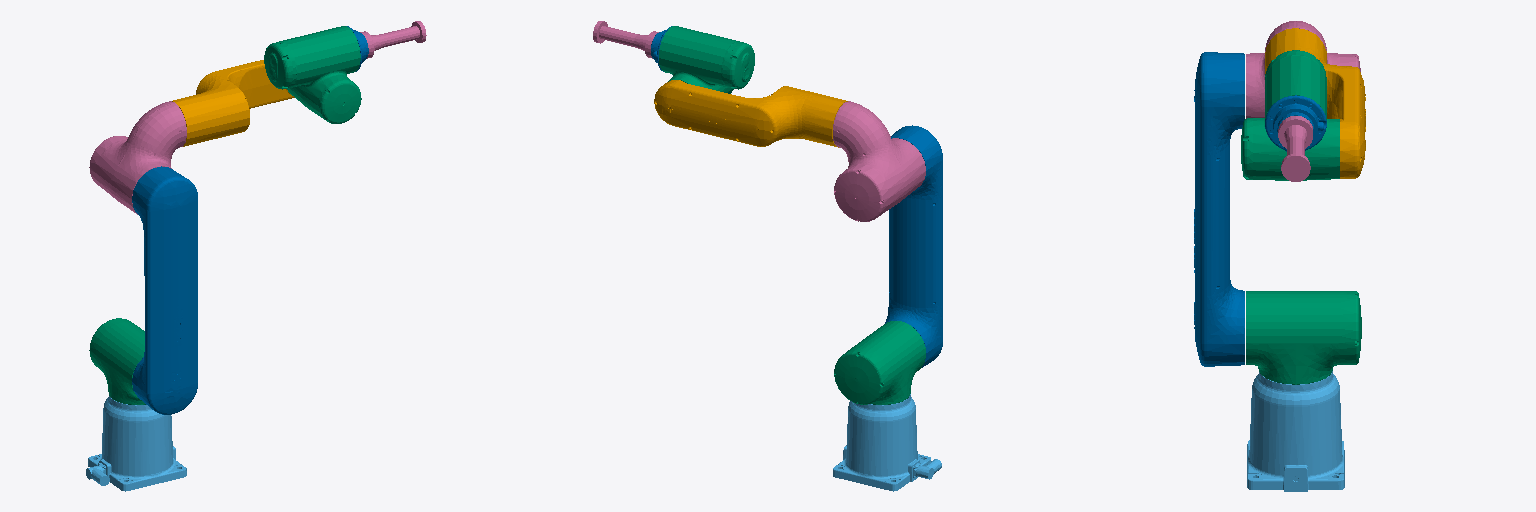
robot.urdf — gofa_arm_urdf:
<?xml version="1.0"?>

<robot name="gofa_arm_urdf">


    <!-- World Definition -->
    <link name="world"/>


    <!-- Links Definition -->
    <!-- BASE LINK -->
    <link name="base_link">
        <visual>
            <geometry>
                <mesh filename="package://pastabot_pkg/mesh/GoFa_Base.stl" scale="0.001 0.001 0.001"/>
            </geometry>
            <origin xyz="0.0 0.0 0.0" rpy="0.0 0.0 0.0"/>
        </visual>
        <collision>
            <geometry>
                <mesh filename="package://pastabot_pkg/mesh/GoFa_Base.stl" scale="0.001 0.001 0.001"/>
            </geometry>
        </collision>
        <inertial>
            <mass value="10"/>
            <inertia ixx="0.4" ixy="0.0" ixz="0.0" iyy="0.4" iyz="0.0" izz="0.2"/>
            <origin xyz="0 0 0" rpy="0 0 0"/>
        </inertial>
    </link>
    <gazebo reference="base_link">
        <material>Gazebo/Yellow</material>
        <plugin name="gazebo_ros_control" filename="libgazebo_ros_control.so">
            <robotNamespace>/</robotNamespace>
        </plugin>
    </gazebo>

    <!-- LINK01 Revolutional - Visualization and Physics -->
    <link name="link01_rev1">
        <visual>
            <geometry>
                <mesh filename="package://pastabot_pkg/mesh/GoFa_Link1.stl" scale="0.001 0.001 0.001"/>
            </geometry>
            <origin xyz="0.0 0.0 0.0" rpy="0.0 0.0 0.0"/>
        </visual>
        <collision>
            <geometry>
                <mesh filename="package://pastabot_pkg/mesh/GoFa_Link1.stl" scale="0.001 0.001 0.001"/>
            </geometry>
            <origin xyz="0.0 0.0 0.0" rpy="0.0 0.0 0.0"/>
        </collision>
        <inertial>
            <mass value="0.1"/>
            <origin xyz="0 0 0" rpy="0 0 0"/>
            <inertia ixx="0.03" iyy="0.03" izz="0.03" ixy="0.0" ixz="0.0" iyz="0.0"/>
        </inertial>
    </link>
    <gazebo reference="link01_rev1">
        <material>Gazebo/Yellow</material>
    </gazebo>

    <!-- LINK01 DH - Modeling Cinematic Transformations -->
    <link name="link01_DH">
        <inertial>
            <mass value="1"/>
            <inertia ixx="0.4" ixy="0.0" ixz="0.0" iyy="0.4" iyz="0.0" izz="0.2"/>
        </inertial>
    </link>

    <!-- LINK02 Revolutional - Visualization and Physics -->
    <link name="link02_rev2">
        <visual>
            <geometry>
                <mesh filename="package://pastabot_pkg/mesh/GoFa_Link2.stl" scale="0.001 0.001 0.001"/>
            </geometry>
            <origin xyz="0.0 0.265 0.0" rpy="1.570795 0.0 0.0"/>
        </visual>
        <collision>
            <geometry>
                <mesh filename="package://pastabot_pkg/mesh/GoFa_Link2.stl" scale="0.001 0.001 0.001"/>
            </geometry>
            <origin xyz="0.0 0.265 0.0" rpy="1.570795 0.0 0.0"/>
        </collision>
        <inertial>
            <mass value="0.1"/>
            <origin xyz="0 0 0" rpy="0 0 0"/>
            <inertia ixx="0.03" iyy="0.03" izz="0.03" ixy="0.0" ixz="0.0" iyz="0.0"/>
        </inertial>
    </link>
    <gazebo reference="link02_rev2">
        <material>Gazebo/Yellow</material>
    </gazebo>

    <!-- LINK02 DH - Modeling Cinematic Transformations -->
    <link name="link02_DH">
        <inertial>
            <mass value="1"/>
            <inertia ixx="0.4" ixy="0.0" ixz="0.0" iyy="0.4" iyz="0.0" izz="0.2"/>
        </inertial>
    </link>

    <!-- LINK03 Revolutional - Visualization and Physics -->
    <link name="link03_rev3">
        <visual>
            <geometry>
                <mesh filename="package://pastabot_pkg/mesh/GoFa_Link3.stl" scale="0.001 0.001 0.001"/>
            </geometry>
            <origin xyz="-0.709 0.0 0.0 " rpy="1.570795 0.0 1.570795"/>
        </visual>
        <collision>
            <geometry>
                <mesh filename="package://pastabot_pkg/mesh/GoFa_Link3.stl" scale="0.001 0.001 0.001"/>
            </geometry>
            <origin xyz="-0.709 0.0 0.0 " rpy="1.570795 0.0 1.570795"/>
        </collision>
        <inertial>
            <mass value="0.1"/>
            <origin xyz="0 0 0" rpy="0 0 0"/>
            <inertia ixx="0.03" iyy="0.03" izz="0.03" ixy="0.0" ixz="0.0" iyz="0.0"/>
        </inertial>
    </link>
    <gazebo reference="link03_rev3">
        <material>Gazebo/Yellow</material>
    </gazebo>

    <!-- LINK03 DH - Modeling Cinematic Transformations -->
    <link name="link03_DH">
        <inertial>
            <mass value="1"/>
            <inertia ixx="0.4" ixy="0.0" ixz="0.0" iyy="0.4" iyz="0.0" izz="0.2"/>
        </inertial>
    </link>

    <!-- LINK04 Revolutional - Visualization and Physics -->
    <link name="link04_rev4">
        <visual>
            <geometry>
                <mesh filename="package://pastabot_pkg/mesh/GoFa_Link4.stl" scale="0.001 0.001 0.001"/>
            </geometry>
            <origin xyz="-0.819 0.0 0.0" rpy="3.14159 -1.570795 0.0"/>
        </visual>
        <collision>
            <geometry>
                <mesh filename="package://pastabot_pkg/mesh/GoFa_Link4.stl" scale="0.001 0.001 0.001"/>
            </geometry>
            <origin xyz="-0.819 0.0 0.0" rpy="3.14159 -1.570795 0.0"/>
        </collision>
        <inertial>
            <mass value="0.1"/>
            <origin xyz="0 0 0" rpy="0 0 0"/>
            <inertia ixx="0.03" iyy="0.03" izz="0.03" ixy="0.0" ixz="0.0" iyz="0.0"/>
        </inertial>
    </link>
    <gazebo reference="link04_rev4">
        <material>Gazebo/Yellow</material>
    </gazebo>

    <!-- LINK04 DH - Modeling Cinematic Transformations -->
    <link name="link04_DH">
        <inertial>
            <mass value="1"/>
            <inertia ixx="0.4" ixy="0.0" ixz="0.0" iyy="0.4" iyz="0.0" izz="0.2"/>
        </inertial>
    </link>

    <!-- LINK05 Revolutional - Visualization and Physics -->
    <link name="link05_rev5">
        <visual>
            <geometry>
                <mesh filename="package://pastabot_pkg/mesh/GoFa_Link5.stl" scale="0.001 0.001 0.001"/>
            </geometry>
            <origin xyz="-0.819 -0.47 0.0" rpy="1.570795 0.0 1.570795"/>
        </visual>
        <collision>
            <geometry>
                <mesh filename="package://pastabot_pkg/mesh/GoFa_Link5.stl" scale="0.001 0.001 0.001"/>
            </geometry>
            <origin xyz="-0.819 -0.47 0.0" rpy="1.570795 0.0 1.570795"/>
        </collision>
        <inertial>
            <mass value="0.1"/>
            <origin xyz="0 0 0" rpy="0 0 0"/>
            <inertia ixx="0.03" iyy="0.03" izz="0.03" ixy="0.0" ixz="0.0" iyz="0.0"/>
        </inertial>
    </link>
    <gazebo reference="link05_rev5">
        <material>Gazebo/Yellow</material>
    </gazebo>

    <!-- LINK05 DH - Modeling Cinematic Transformations -->
    <link name="link05_DH">
        <inertial>
            <mass value="1"/>
            <inertia ixx="0.4" ixy="0.0" ixz="0.0" iyy="0.4" iyz="0.0" izz="0.2"/>
        </inertial>
    </link>

    <!-- LINK06 Revolutional - Visualization and Physics -->
    <link name="link06_rev6">
        <visual>
            <geometry>
                <mesh filename="package://pastabot_pkg/mesh/GoFa_Link6.stl" scale="0.001 0.001 0.001"/>
            </geometry>
            <origin xyz="-0.899 0.0 -0.47" rpy="0.0 -1.570795 3.14159"/>
        </visual>
        <collision>
            <geometry>
                <mesh filename="package://pastabot_pkg/mesh/GoFa_Link6.stl" scale="0.001 0.001 0.001"/>
            </geometry>
            <origin xyz="-0.899 0.0 -0.47" rpy="0.0 -1.570795 3.14159"/>
            <material name="green"/>
        </collision>
        <inertial>
            <mass value="0.1"/>
            <origin xyz="0 0 0" rpy="0 0 0"/>
            <inertia ixx="0.03" iyy="0.03" izz="0.03" ixy="0.0" ixz="0.0" iyz="0.0"/>
        </inertial>
        <gazebo>
            <sensor type="force_torque" name="ft_sensor">
                <always_on>true</always_on>
                <update_rate>100.0</update_rate>
                <force_torque>
                    <frame>child</frame>
                    <measure_direction>child_to_parent</measure_direction>
                </force_torque>
            </sensor>
        </gazebo>
    </link>
    <gazebo reference="link06_rev6">
        <material>Gazebo/Yellow</material>
    </gazebo>

    <!-- LINK06 DH - Modeling Cinematic Transformations -->
    <link name="link06_DH">
        <inertial>
            <mass value="1"/>
            <inertia ixx="0.4" ixy="0.0" ixz="0.0" iyy="0.4" iyz="0.0" izz="0.2"/>
        </inertial>
    </link>

    <!-- GRIPPER LINK -->
    <link name="gripper_fixed">
        <visual>
            <geometry>
                <mesh filename="package://pastabot_pkg/mesh/SR24_02_ExeAHTool.stl" scale="0.001 0.001 0.001"/>
            </geometry>
            <origin xyz="0 0.0 -0.150" rpy="0.0 0 0"/>
        </visual>
        <collision>
            <geometry>
                <mesh filename="package://pastabot_pkg/mesh/SR24_02_ExeAHTool.stl" scale="0.001 0.001 0.001"/>
            </geometry>
            <origin xyz="0 0.0 -0.150" rpy="0.0 0 0"/>
        </collision>
        <inertial>
            <mass value="1"/>
            <inertia ixx="0.4" ixy="0.0" ixz="0.0" iyy="0.4" iyz="0.0" izz="0.2"/>
            <origin xyz="0 0 0" rpy="0 0 0"/>
        </inertial>
    </link>
    <gazebo reference="gripper_fixed">
        <material>Gazebo/Yellow</material>
    </gazebo>


    <!-- Joints Definition -->
    <!-- BASE JOINT (fixed) -->
    <joint name="fixed" type="fixed">
        <parent link="world"/>
        <child link="base_link"/>
    </joint>

    <!-- JOINT1 Revolutional -->
    <joint name="jnt1_rev" type="revolute">
        <parent link="base_link"/>
        <child link="link01_rev1"/>
        <axis xyz="0 0 1"/>
        <limit lower="-3.14159" upper="3.14159" velocity="50.0" effort="1000.0"/>
        <origin xyz="0 0 0" rpy="0 0 0"/>
        <dynamics damping="0.5" friction="0.5"/>
    </joint>

    <!-- JOINT1 DH -->
    <joint name="jnt1_DH" type="fixed">
        <parent link="link01_rev1"/>
        <child link="link01_DH"/>
        <origin xyz="0 0 0.265" rpy="-1.570795 0 0"/>
    </joint>

    <!-- JOINT2 Revolutional -->
    <joint name="jnt2_rev" type="revolute">
        <parent link="link01_DH"/>
        <child link="link02_rev2"/>
        <axis xyz="0 0 1"/>
        <limit lower="-1.5708" upper="1.5708" velocity="50.0" effort="1000.0"/>
        <origin xyz="0 0 0" rpy="0 0 0"/>
        <dynamics damping="0.5" friction="0.5"/>
    </joint>

    <!-- JOINT2 DH -->
    <joint name="jnt2_DH" type="fixed">
        <parent link="link02_rev2"/>
        <child link="link02_DH"/>
        <limit lower="-1.5708" upper="1.5708" velocity="50.0" effort="1000.0"/>
        <origin xyz="0 -0.444 0" rpy="0 0 -1.570795"/>
    </joint>

    <!-- JOINT3 Revolutional -->
    <joint name="jnt3_rev" type="revolute">
        <parent link="link02_DH"/>
        <child link="link03_rev3"/>
        <axis xyz="0 0 1"/>
        <limit lower="-1.5708" upper="1.5708" velocity="50.0" effort="1000.0"/>
        <origin xyz="0 0 0" rpy="0 0 0"/>
        <dynamics damping="0.5" friction="0.5"/>
    </joint>

    <!-- JOINT3 DH -->
    <joint name="jnt3_DH" type="fixed">
        <parent link="link03_rev3"/>
        <child link="link03_DH"/>
        <limit lower="-1.5708" upper="1.5708" velocity="50.0" effort="1000.0"/>
        <origin xyz="0.11 0 0" rpy="-1.570795 0 0"/>
    </joint>

    <!-- JOINT4 Revolutional -->
    <joint name="jnt4_rev" type="revolute">
        <parent link="link03_DH"/>
        <child link="link04_rev4"/>
        <axis xyz="0 0 1"/>
        <limit lower="-3.14159" upper="3.14159" velocity="50.0" effort="1000.0"/>
        <origin xyz="0 0 0" rpy="0 0 0"/>
        <dynamics damping="0.5" friction="0.5"/>
    </joint>

    <!-- JOINT4 DH -->
    <joint name="jnt4_DH" type="fixed">
        <parent link="link04_rev4"/>
        <child link="link04_DH"/>
        <limit lower="-3.14159" upper="3.14159" velocity="50.0" effort="1000.0"/>
        <origin xyz="0 0 0.47" rpy="1.570795 0 0"/>
    </joint>

    <!-- JOINT5 Revolutional -->
    <joint name="jnt5_rev" type="revolute">
        <parent link="link04_DH"/>
        <child link="link05_rev5"/>
        <axis xyz="0 0 1"/>
        <limit lower="-3.14159" upper="3.14159" velocity="50.0" effort="1000.0"/>
        <origin xyz="0 0 0" rpy="0 0 0"/>
        <dynamics damping="0.5" friction="0.5"/>
    </joint>

    <!-- JOINT5 DH -->
    <joint name="jnt5_DH" type="fixed">
        <parent link="link05_rev5"/>
        <child link="link05_DH"/>
        <limit lower="-3.14159" upper="3.14159" velocity="50.0" effort="1000.0"/>
        <origin xyz="0.08 0 0" rpy="-1.570795 0 0"/>
    </joint>

    <!-- JOINT6 Revolutional -->
    <joint name="jnt6_rev" type="revolute">
        <parent link="link05_DH"/>
        <child link="link06_rev6"/>
        <axis xyz="0 0 1"/>
        <limit lower="-3.14159" upper="3.14159" velocity="50.0" effort="1000.0"/>
        <origin xyz="0 0 0" rpy="0 0 0"/>
        <dynamics damping="0.5" friction="0.5"/>
    </joint>
    <gazebo reference="jnt6_rev">
        <provideFeedback>true</provideFeedback>  <!-- Enable Joint Feedback for End Effector Joint -->
    </gazebo>

    <!-- JOINT6 DH -->
    <joint name="jnt6_DH" type="fixed">
        <parent link="link06_rev6"/>
        <child link="link06_DH"/>
        <limit lower="-3.14159" upper="3.14159" velocity="50.0" effort="1000.0"/>
        <origin xyz="0 0 0.101" rpy="0 0 3.14159"/>
    </joint>

    <!-- JOINT GRIPPER DH -->
    <joint name="jnt_gripper" type="fixed">
        <parent link="link06_DH"/>
        <child link="gripper_fixed"/>
        <limit lower="-3.14159" upper="3.14159" velocity="50.0" effort="1000.0"/>
        <origin xyz="0 0 0.150" rpy="0 0 0"/>
    </joint>


    <!-- Transmissions Definition -->
    <!-- JOINT1 -->
    <transmission name="jnt1_rev_simple_trans">
        <type>transmission_interface/SimpleTransmission</type>
        <joint name="jnt1_rev">
            <hardwareInterface>hardware_interface/PositionJointInterface</hardwareInterface>
        </joint>
        <actuator name="jnt1_rev_motor">
            <mechanicalReduction>1</mechanicalReduction>
            <hardwareInterface>hardware_interface/PositionJointInterface</hardwareInterface>
        </actuator>
    </transmission>

    <!-- JOINT2 -->
    <transmission name="jnt2_rev_simple_trans">
        <type>transmission_interface/SimpleTransmission</type>
        <joint name="jnt2_rev">
            <hardwareInterface>hardware_interface/PositionJointInterface</hardwareInterface>
        </joint>
        <actuator name="jnt2_rev_motor">
            <mechanicalReduction>1</mechanicalReduction>
            <hardwareInterface>hardware_interface/PositionJointInterface</hardwareInterface>
        </actuator>
    </transmission>

    <!-- JOINT3 -->
    <transmission name="jnt3_rev_simple_trans">
        <type>transmission_interface/SimpleTransmission</type>
        <joint name="jnt3_rev">
            <hardwareInterface>hardware_interface/PositionJointInterface</hardwareInterface>
        </joint>
        <actuator name="jnt3_rev_motor">
            <mechanicalReduction>1</mechanicalReduction>
            <hardwareInterface>hardware_interface/PositionJointInterface</hardwareInterface>
        </actuator>
    </transmission>

    <!-- JOINT4 -->
    <transmission name="jnt4_rev_simple_trans">
        <type>transmission_interface/SimpleTransmission</type>
        <joint name="jnt4_rev">
            <hardwareInterface>hardware_interface/PositionJointInterface</hardwareInterface>
        </joint>
        <actuator name="jnt4_rev_motor">
            <mechanicalReduction>1</mechanicalReduction>
            <hardwareInterface>hardware_interface/PositionJointInterface</hardwareInterface>
        </actuator>
    </transmission>

    <!-- JOINT5 -->
    <transmission name="jnt5_rev_simple_trans">
        <type>transmission_interface/SimpleTransmission</type>
        <joint name="jnt5_rev">
            <hardwareInterface>hardware_interface/PositionJointInterface</hardwareInterface>
        </joint>
        <actuator name="jnt5_rev_motor">
            <mechanicalReduction>1</mechanicalReduction>
            <hardwareInterface>hardware_interface/PositionJointInterface</hardwareInterface>
        </actuator>
    </transmission>

    <!-- JOINT6 -->
    <transmission name="jnt6_rev_simple_trans">
        <type>transmission_interface/SimpleTransmission</type>
        <joint name="jnt6_rev">
            <hardwareInterface>hardware_interface/PositionJointInterface</hardwareInterface>
        </joint>
        <actuator name="jnt6_rev_motor">
            <mechanicalReduction>1</mechanicalReduction>
            <hardwareInterface>hardware_interface/PositionJointInterface</hardwareInterface>
        </actuator>
    </transmission>


    <!-- Gazebo -->
    <gazebo>
        <!-- Control Plugin -->
        <plugin name="control" filename="libgazebo_ros_control.so">
            <robotNamespace>/</robotNamespace>
            <controlPeriod>0.001</controlPeriod>
            <robotParam>/robot_description</robotParam>
        </plugin>

        <!-- Force Sensor Plugin -->
        <plugin name="ft_sensor" filename="libgazebo_ros_ft_sensor.so">
            <updateRate>100.0</updateRate>
            <topicName>ft_sensor_topic</topicName>
            <jointName>jnt6_rev</jointName>
        </plugin>
    </gazebo>

</robot>

--- What the picture shows (computed from the rendered views, not written in the file) ---
The picture shows the robot from 3 angles, left to right: view 1: azimuth 30°, elevation 25°; view 2: azimuth 150°, elevation 25°; view 3: azimuth 270°, elevation 25°; orthographic projection.
Robot: gofa_arm_urdf — 15 links, 14 joints (6 revolute, 8 fixed); root link world; default pose: all joints at 0.
Visible links, largest first — view 1: link02_rev2, link05_rev5, base_link, link03_rev3, link04_rev4, link01_rev1, gripper_fixed; view 2: link02_rev2, link04_rev4, link03_rev3, base_link, link01_rev1, link05_rev5, gripper_fixed; view 3: link02_rev2, base_link, link01_rev1, link05_rev5, link04_rev4, link03_rev3, gripper_fixed, link06_rev6.
Link boxes in pixels (box(x1,y1,x2,y2)): link02_rev2: box(132, 166, 197, 414); link05_rev5: box(264, 26, 361, 123); base_link: box(86, 396, 186, 491); link03_rev3: box(89, 101, 186, 214); link04_rev4: box(172, 60, 294, 146); link01_rev1: box(89, 318, 145, 404); gripper_fixed: box(360, 21, 426, 58); link02_rev2: box(885, 125, 942, 367); link04_rev4: box(654, 80, 847, 147); link03_rev3: box(833, 101, 925, 221); base_link: box(833, 394, 941, 491); link01_rev1: box(834, 321, 925, 404); link05_rev5: box(659, 26, 754, 93); gripper_fixed: box(593, 21, 658, 58); link02_rev2: box(1194, 52, 1244, 366); base_link: box(1247, 371, 1344, 491); link01_rev1: box(1246, 291, 1361, 384); link05_rev5: box(1241, 50, 1339, 180); link04_rev4: box(1265, 28, 1365, 178); link03_rev3: box(1246, 21, 1360, 118); gripper_fixed: box(1278, 116, 1312, 181); link06_rev6: box(1265, 95, 1326, 151).
Size in the robot's own frame: 0.8455 by 0.2902 by 0.9517 metres.
8 mesh visuals loaded from 8 distinct referenced files (8 ASCII STL).